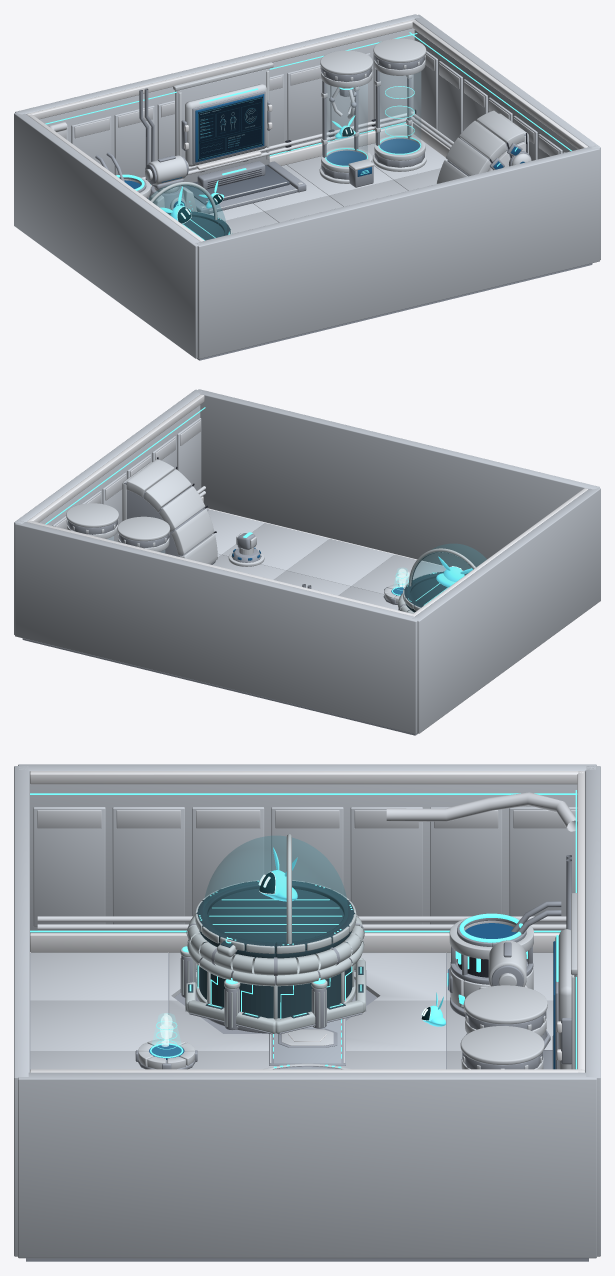
File: invention_room.glb
3 renders of one model, top to bottom at view 1: azimuth 30°, elevation 25°; view 2: azimuth 150°, elevation 25°; view 3: azimuth 270°, elevation 25°, orthographic. The views are drawn at different scales.
Visible parts, largest first — view 1: wall_front, wall_left, wall_back, wall_right, trim_back_top, tube2_glass_smooth, tube1_glass_smooth, screen_surface, pod_dome_smooth, back_panel_2, terminal_backplate, trim_right_top (+37 smaller); view 2: wall_back, wall_front, wall_left, wall_right, floor_tile_3_0, pod_dome_smooth, floor_tile_4_0, trim_right_top, floor_tile_2_0, floor_tile_5_0, right_panel_-3, trim_back_top (+15 smaller); view 3: wall_right, wall_left, pod_dome_smooth, trim_left_top, left_panel_-3, left_panel_-2, left_panel_1, floor_tile_0_0, left_panel_2, floor_tile_1_0, wall_back, wall_front (+41 smaller).
Part boxes in pixels (left/top/right/bottom): wall_front: left=195, top=145, right=599, bottom=358; wall_left: left=14, top=112, right=200, bottom=358; wall_back: left=15, top=14, right=419, bottom=174; wall_right: left=412, top=14, right=600, bottom=259; trim_back_top: left=26, top=19, right=415, bottom=119; tube2_glass_smooth: left=379, top=72, right=420, bottom=153; tube1_glass_smooth: left=326, top=83, right=367, bottom=165; screen_surface: left=198, top=96, right=262, bottom=160; pod_dome_smooth: left=148, top=184, right=226, bottom=239; back_panel_2: left=287, top=65, right=327, bottom=145; terminal_backplate: left=175, top=68, right=269, bottom=182; trim_right_top: left=411, top=20, right=587, bottom=149; wall_back: left=15, top=520, right=419, bottom=733; wall_front: left=195, top=389, right=599, bottom=570; wall_left: left=412, top=487, right=600, bottom=733; wall_right: left=14, top=389, right=201, bottom=634; floor_tile_3_0: left=287, top=538, right=394, bottom=586; pod_dome_smooth: left=408, top=544, right=486, bottom=605; floor_tile_4_0: left=222, top=523, right=329, bottom=570; trim_right_top: left=27, top=394, right=204, bottom=522; floor_tile_2_0: left=351, top=554, right=445, bottom=594; floor_tile_5_0: left=208, top=509, right=264, bottom=554; right_panel_-3: left=177, top=417, right=201, bottom=490; trim_back_top: left=27, top=521, right=415, bottom=616; wall_right: left=18, top=1072, right=596, bottom=1258; wall_left: left=18, top=764, right=596, bottom=932; pod_dome_smooth: left=203, top=836, right=347, bottom=943; trim_left_top: left=30, top=771, right=584, bottom=784; left_panel_-3: left=33, top=807, right=105, bottom=926; left_panel_-2: left=112, top=807, right=184, bottom=924; left_panel_1: left=350, top=807, right=422, bottom=924; floor_tile_0_0: left=30, top=952, right=168, bottom=1000; left_panel_2: left=430, top=807, right=502, bottom=924; floor_tile_1_0: left=30, top=1001, right=168, bottom=1050; wall_back: left=585, top=766, right=600, bottom=1256; wall_front: left=14, top=766, right=29, bottom=1256.
Bounding box in the file's own units: 18.8 × 5.22 × 14.8.
Materials: 24 (1 with a texture image).
